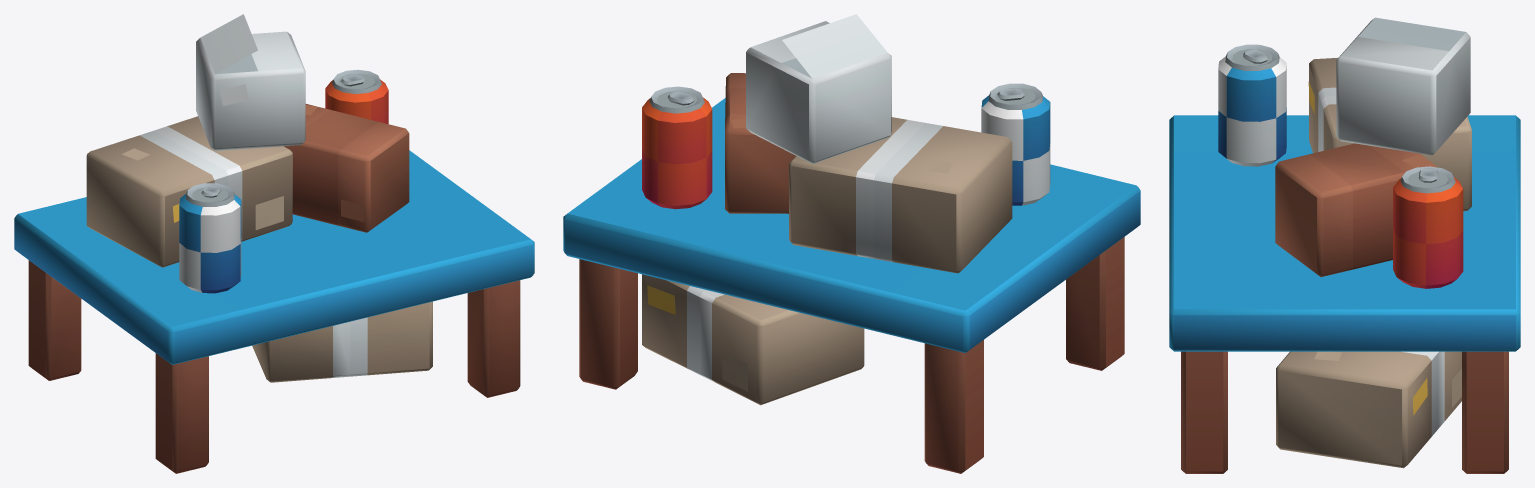
File: kaykit-prototype-bits-table-medium-decorated.glb
3 views of the same model, side by side, from view 1: azimuth 30°, elevation 25°; view 2: azimuth 150°, elevation 25°; view 3: azimuth 270°, elevation 25° (orthographic). The views are drawn at different scales.
Parts seen in each view (by area): view 1: table_medium_Decorated; view 2: table_medium_Decorated; view 3: table_medium_Decorated.
Part boxes in pixels (x1=…): table_medium_Decorated: x1=14, y1=14, x2=534, y2=473; table_medium_Decorated: x1=563, y1=14, x2=1140, y2=473; table_medium_Decorated: x1=1169, y1=17, x2=1520, y2=473.
Bounding box in the file's own units: 2 × 1.71 × 1.5.
1 material, 1 textured.
